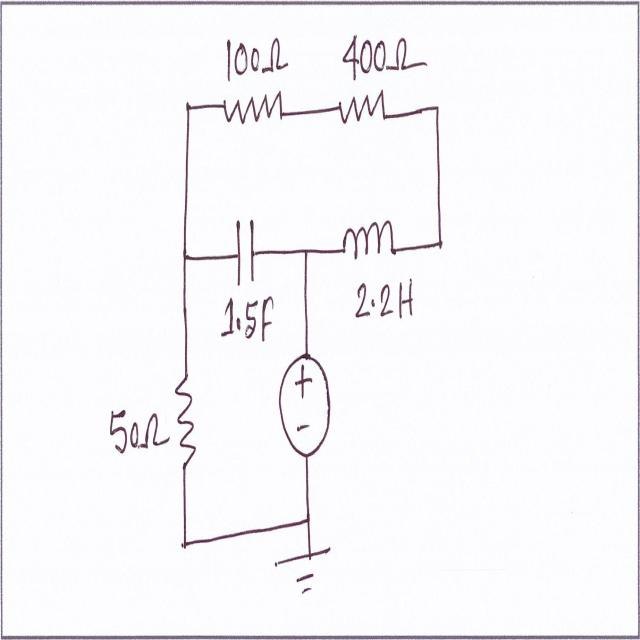capacitor: (233, 205, 260, 292)
ground: (268, 538, 338, 605)
inductor: (337, 210, 402, 272)
resistor: (219, 84, 286, 137), (336, 78, 388, 139), (172, 364, 198, 483)
voltage_source: (275, 341, 333, 466)
